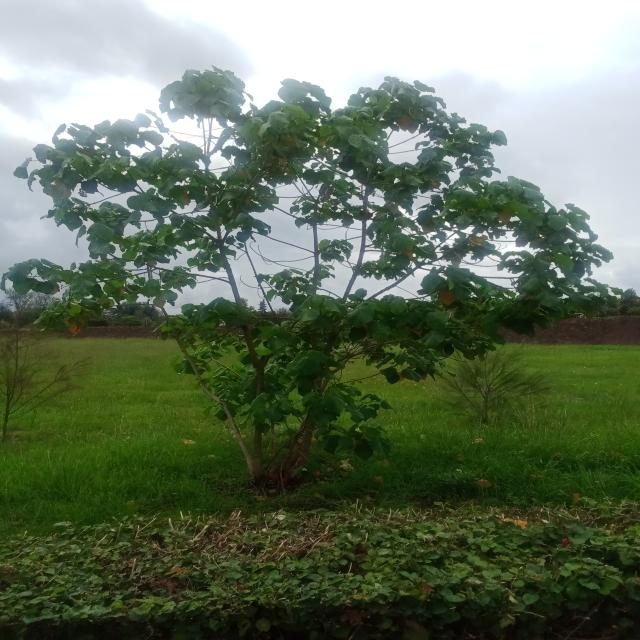Croton machrostychus: (18, 58, 626, 510)
